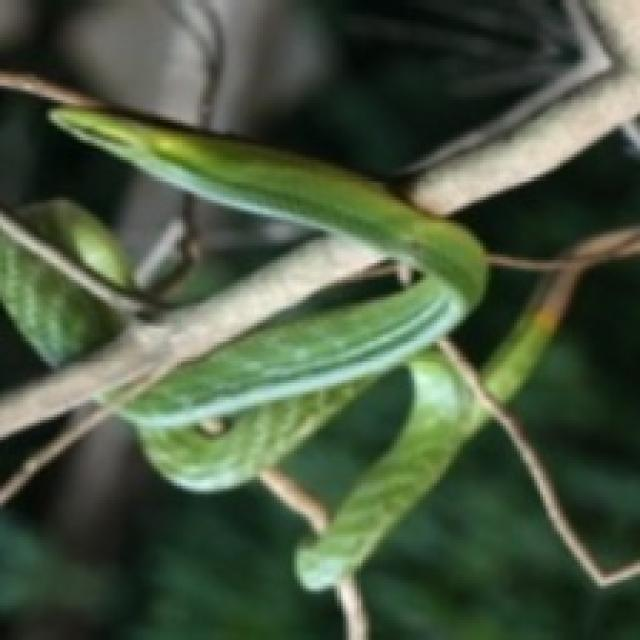red-tailed green ratsnake: (56, 109, 486, 588), (482, 230, 639, 401), (0, 232, 124, 366), (22, 200, 135, 295)
